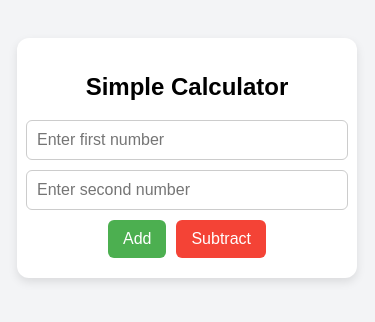
Test case: displays result on successful calculation
Type "100" into the number field with placeholder "Enter first number".
click(187, 140); type("100")  # box 26,120 -> 348,160
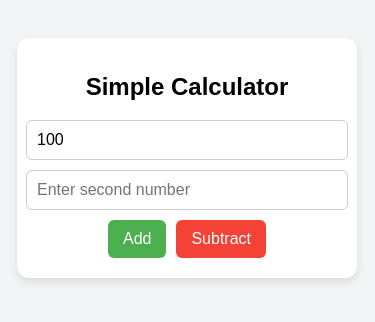
Type "200" into the number field with placeholder "Enter second number".
click(187, 190); type("200")  # box 26,170 -> 348,210
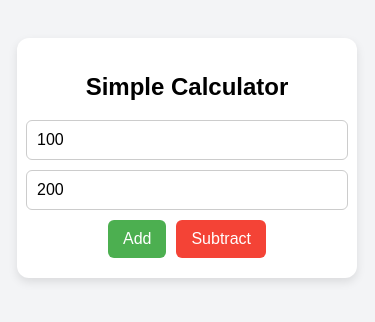
Click the button "Add".
click(137, 239)  # box 108,220 -> 166,258
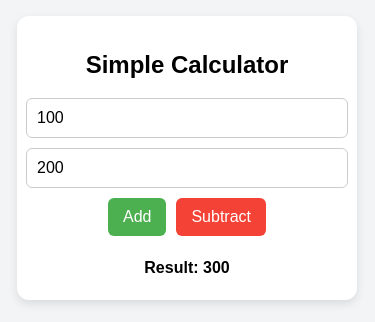
Expected: the text "Result: 300" is shown, 144,256 -> 230,280
